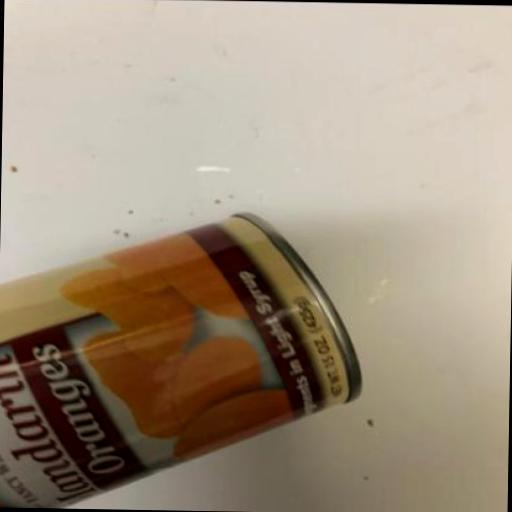metal: (0, 204, 367, 512)
